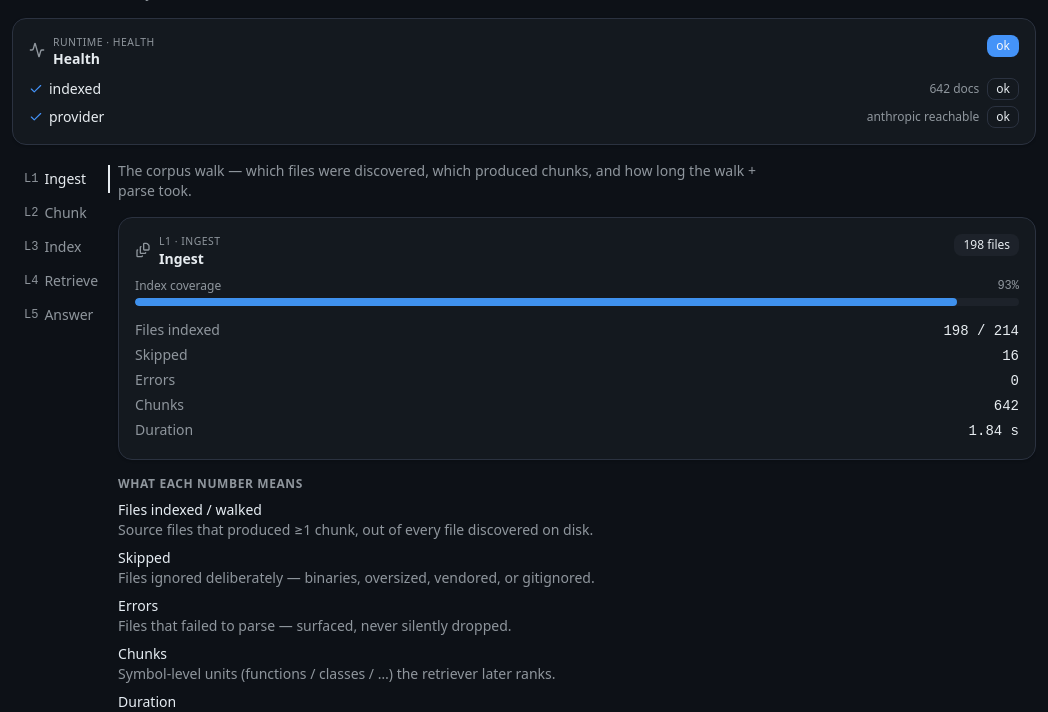
Test case: ObservabilityTab › shows the per-layer CLI command an agent would run (CLI/MCP/HTTP parity)
and each layer shows ITS command
Click the tab "L4 Retrieve" at (61, 281), box [15,266,107,296]
(page scrolled)
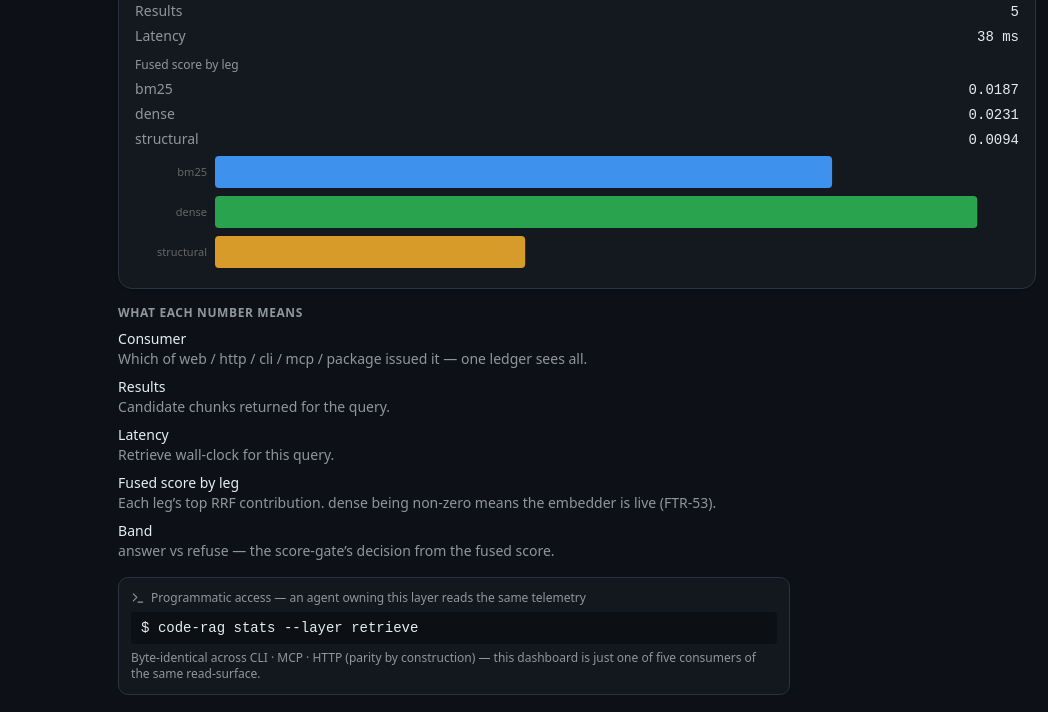
Result: the text "$ code-rag stats --layer retrieve" is shown at [141,620,418,636]
